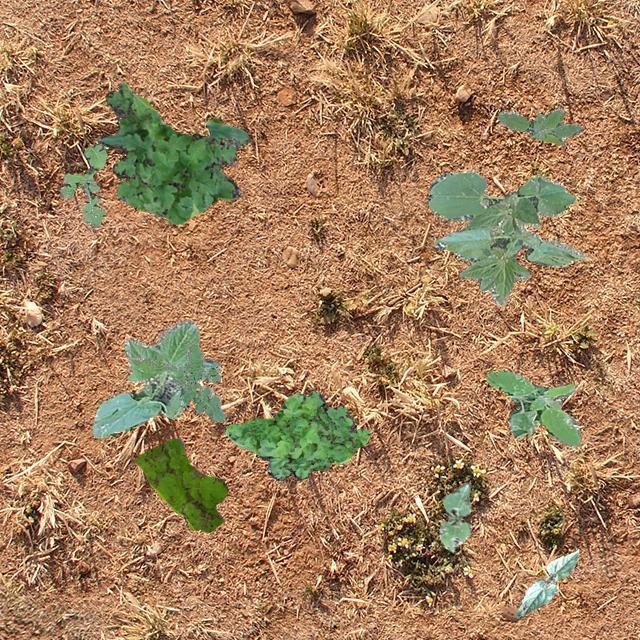crop: (427, 170, 585, 304), (90, 318, 216, 438), (514, 548, 578, 616), (438, 482, 471, 552)
weed: (96, 82, 248, 224), (224, 390, 370, 480), (134, 436, 226, 532), (486, 369, 578, 446), (133, 344, 225, 421), (60, 142, 106, 225), (497, 108, 582, 144)
